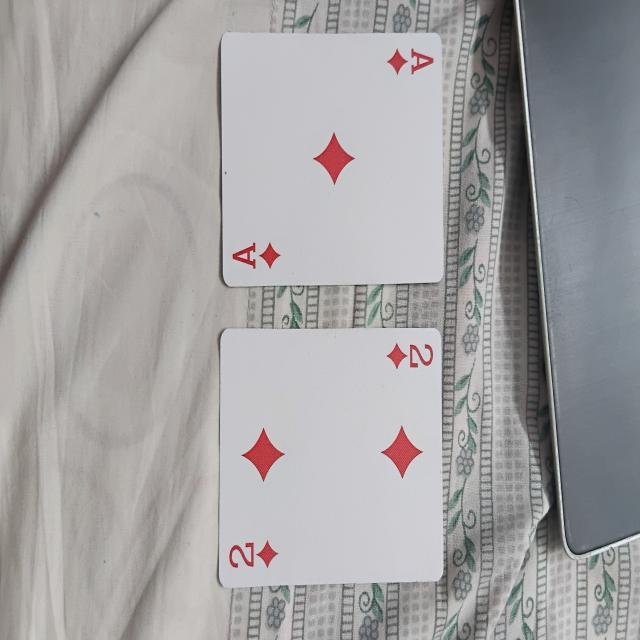2D: (216, 324, 443, 588)
AD: (220, 27, 446, 292)
